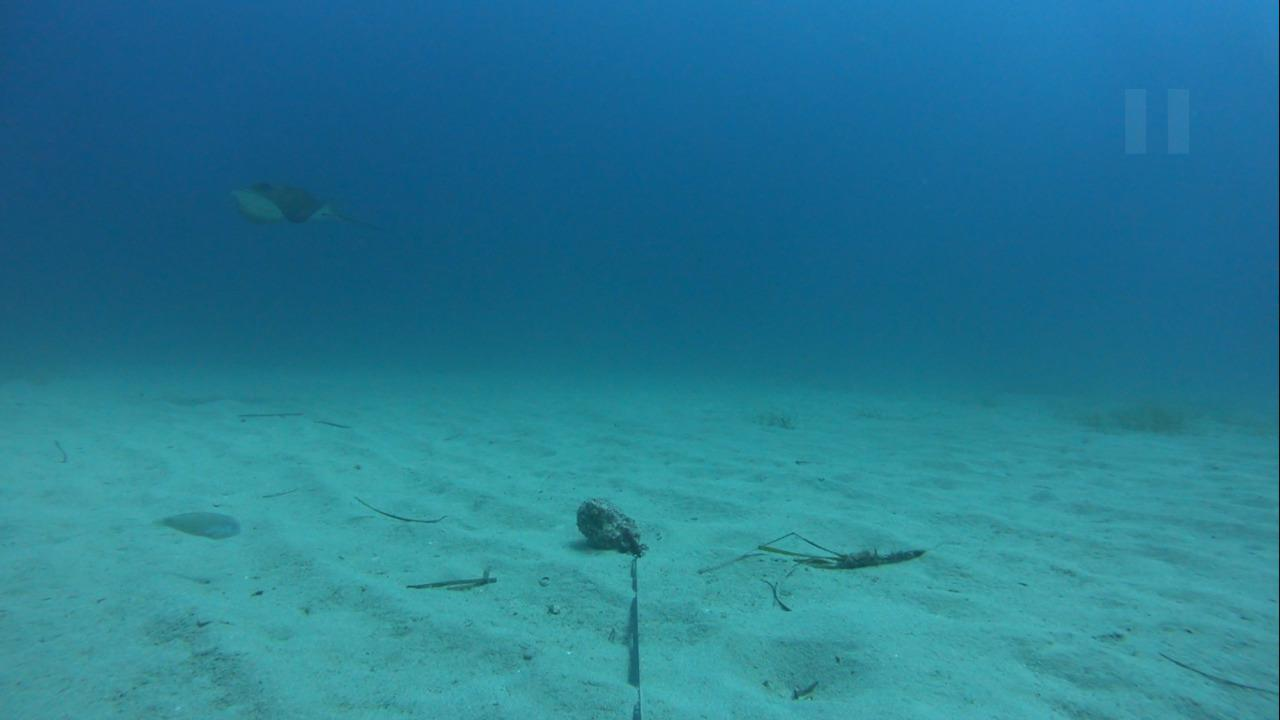myliobatis: (211, 175, 392, 239)
raor: (136, 507, 245, 541)
